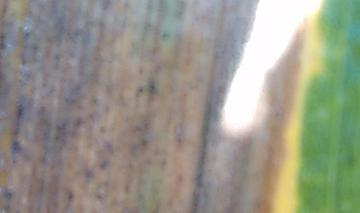tarspot: (10, 103, 25, 139), (146, 71, 157, 97), (69, 115, 86, 130), (1, 183, 15, 201), (18, 25, 33, 40), (8, 140, 23, 154), (82, 167, 95, 181), (97, 158, 110, 171), (1, 31, 8, 55), (64, 187, 74, 203), (1, 1, 11, 17), (93, 188, 105, 201), (129, 124, 142, 135), (135, 84, 144, 99), (100, 1, 110, 13), (138, 136, 148, 147), (159, 31, 172, 39)
